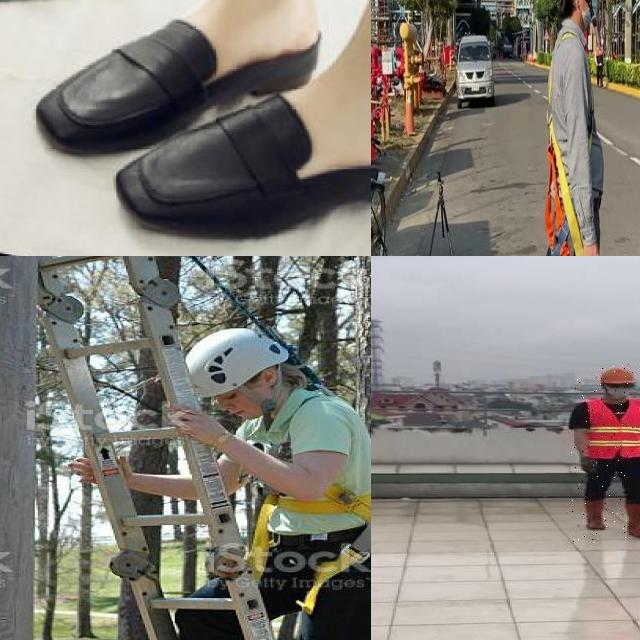Harness: (246, 400, 371, 592), (547, 118, 584, 256)
Sandals: (104, 1, 371, 248)
boots: (581, 498, 608, 527), (623, 503, 640, 540)
head_helmet: (598, 366, 638, 386)
person: (569, 364, 640, 543)
vest: (581, 400, 640, 459)
